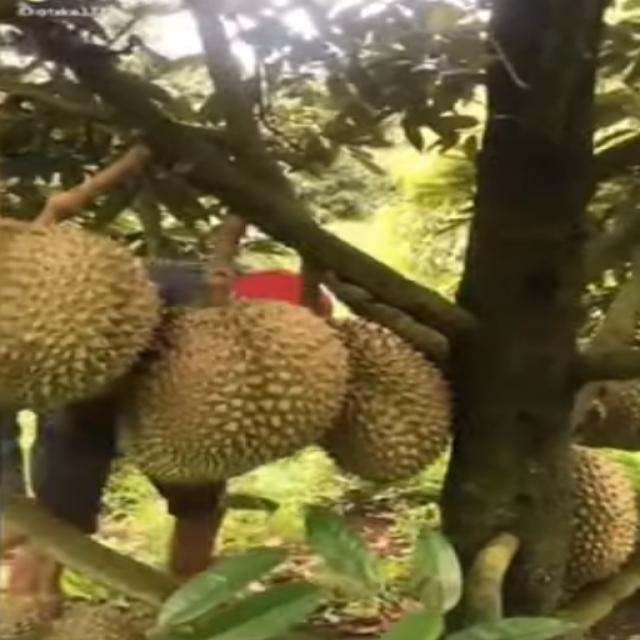mature: (124, 292, 349, 492), (0, 217, 168, 417), (311, 317, 457, 487)
